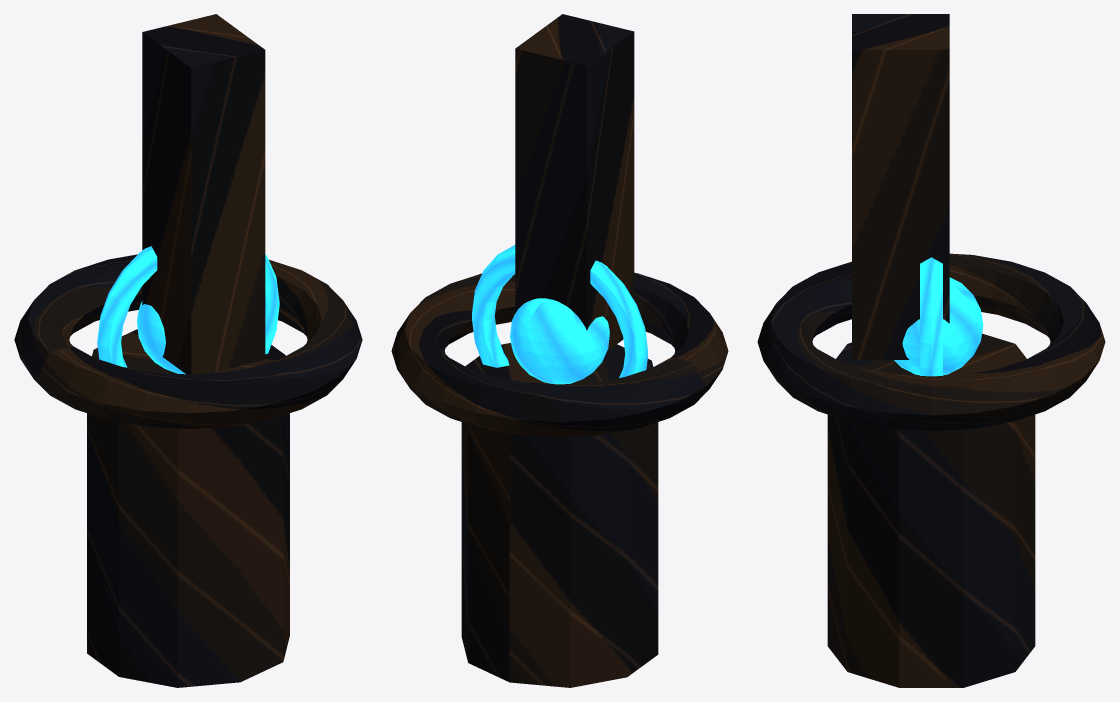
The model's file is arc-caster.glb.
3 views of the same model, side by side, from view 1: azimuth 30°, elevation 25°; view 2: azimuth 150°, elevation 25°; view 3: azimuth 270°, elevation 25° (orthographic). The views are drawn at different scales.
Parts seen in each view (by area): view 1: caster-bracer, caster-rail, caster-focus, caster-energy-ring, caster-core; view 2: caster-bracer, caster-rail, caster-focus, caster-core, caster-energy-ring; view 3: caster-bracer, caster-focus, caster-rail, caster-core, caster-energy-ring.
Part boxes in pixels (left/top/right/bottom): caster-bracer: left=87, top=329, right=289, bottom=687; caster-rail: left=142, top=14, right=265, bottom=374; caster-focus: left=14, top=254, right=362, bottom=428; caster-energy-ring: left=97, top=246, right=279, bottom=367; caster-core: left=137, top=300, right=185, bottom=374; caster-bracer: left=461, top=343, right=658, bottom=687; caster-rail: left=515, top=14, right=634, bottom=351; caster-focus: left=391, top=272, right=728, bottom=437; caster-core: left=510, top=298, right=609, bottom=384; caster-energy-ring: left=472, top=245, right=647, bottom=377; caster-bracer: left=827, top=333, right=1035, bottom=687; caster-focus: left=757, top=253, right=1105, bottom=431; caster-rail: left=852, top=14, right=949, bottom=359; caster-core: left=894, top=277, right=983, bottom=375; caster-energy-ring: left=920, top=257, right=942, bottom=376.
Size of the model in its own units: 0.57 by 1.11 by 0.57.
2 materials, 2 textured.
